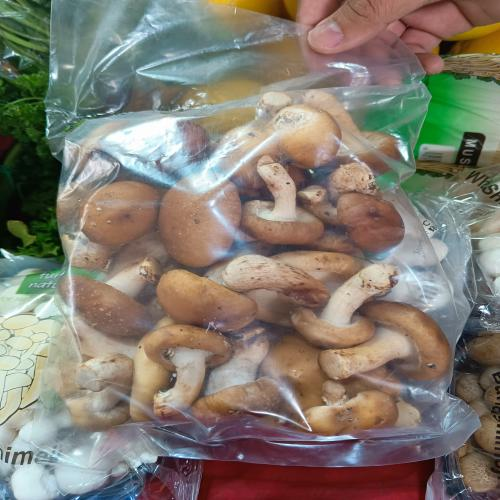Shiitake Mushroom: (44, 122, 466, 460)
